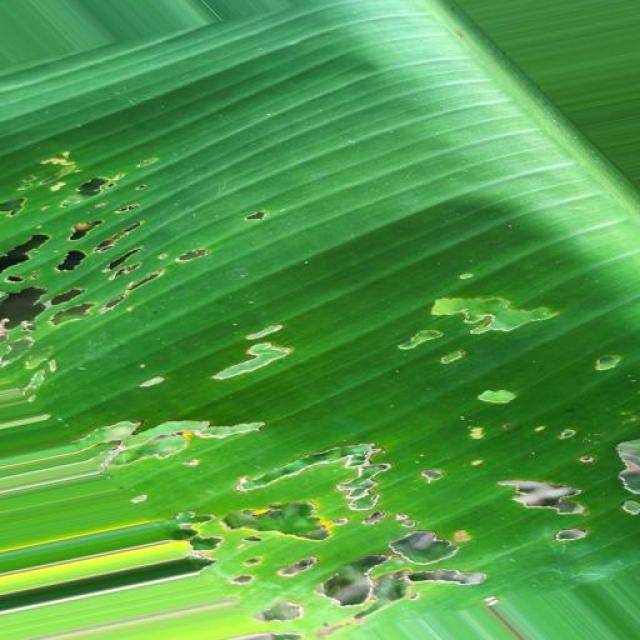Black_rot: (0, 407, 500, 640), (403, 266, 640, 603), (2, 136, 205, 406), (213, 309, 292, 383), (234, 193, 275, 240)
